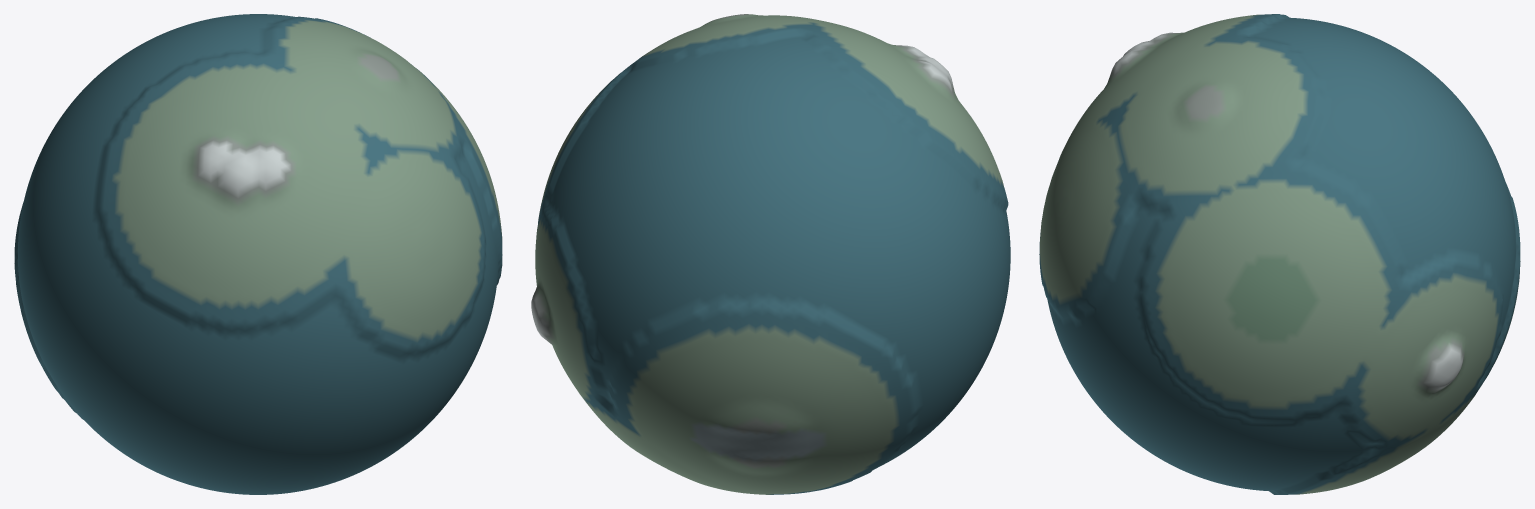
The model's file is world-terrain-v3.glb.
3 views of the same model, side by side, from view 1: azimuth 30°, elevation 25°; view 2: azimuth 150°, elevation 25°; view 3: azimuth 270°, elevation 25° (orthographic). The views are drawn at different scales.
Parts seen in each view (by area): view 1: WorldTerrainCandidate; view 2: WorldTerrainCandidate; view 3: WorldTerrainCandidate.
Boxes of the visible parts, x1,y1,x2,y2 form: WorldTerrainCandidate: [14, 14, 502, 494]; WorldTerrainCandidate: [531, 14, 1010, 494]; WorldTerrainCandidate: [1039, 14, 1520, 494].
Bounding box in the file's own units: 318 × 319 × 320.
